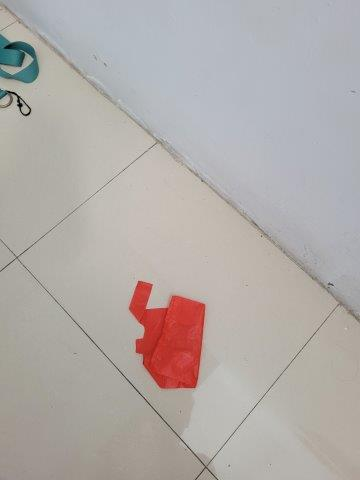plastik: (130, 281, 206, 391)
